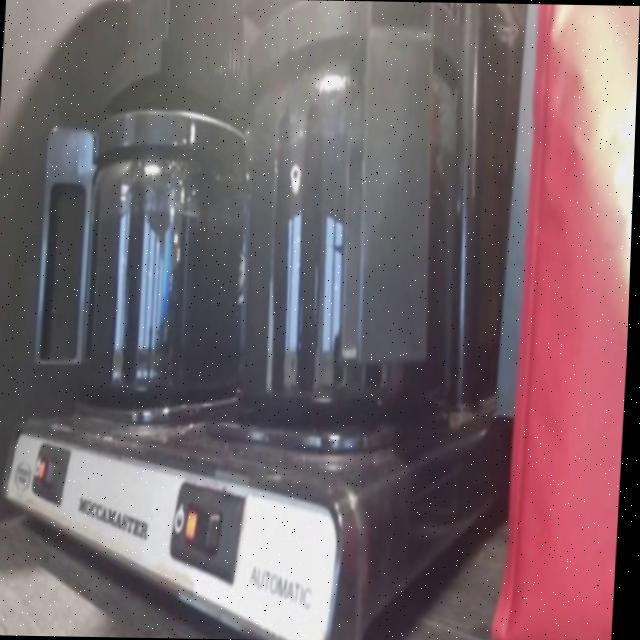coffee: (238, 117, 461, 410), (85, 174, 244, 400)
